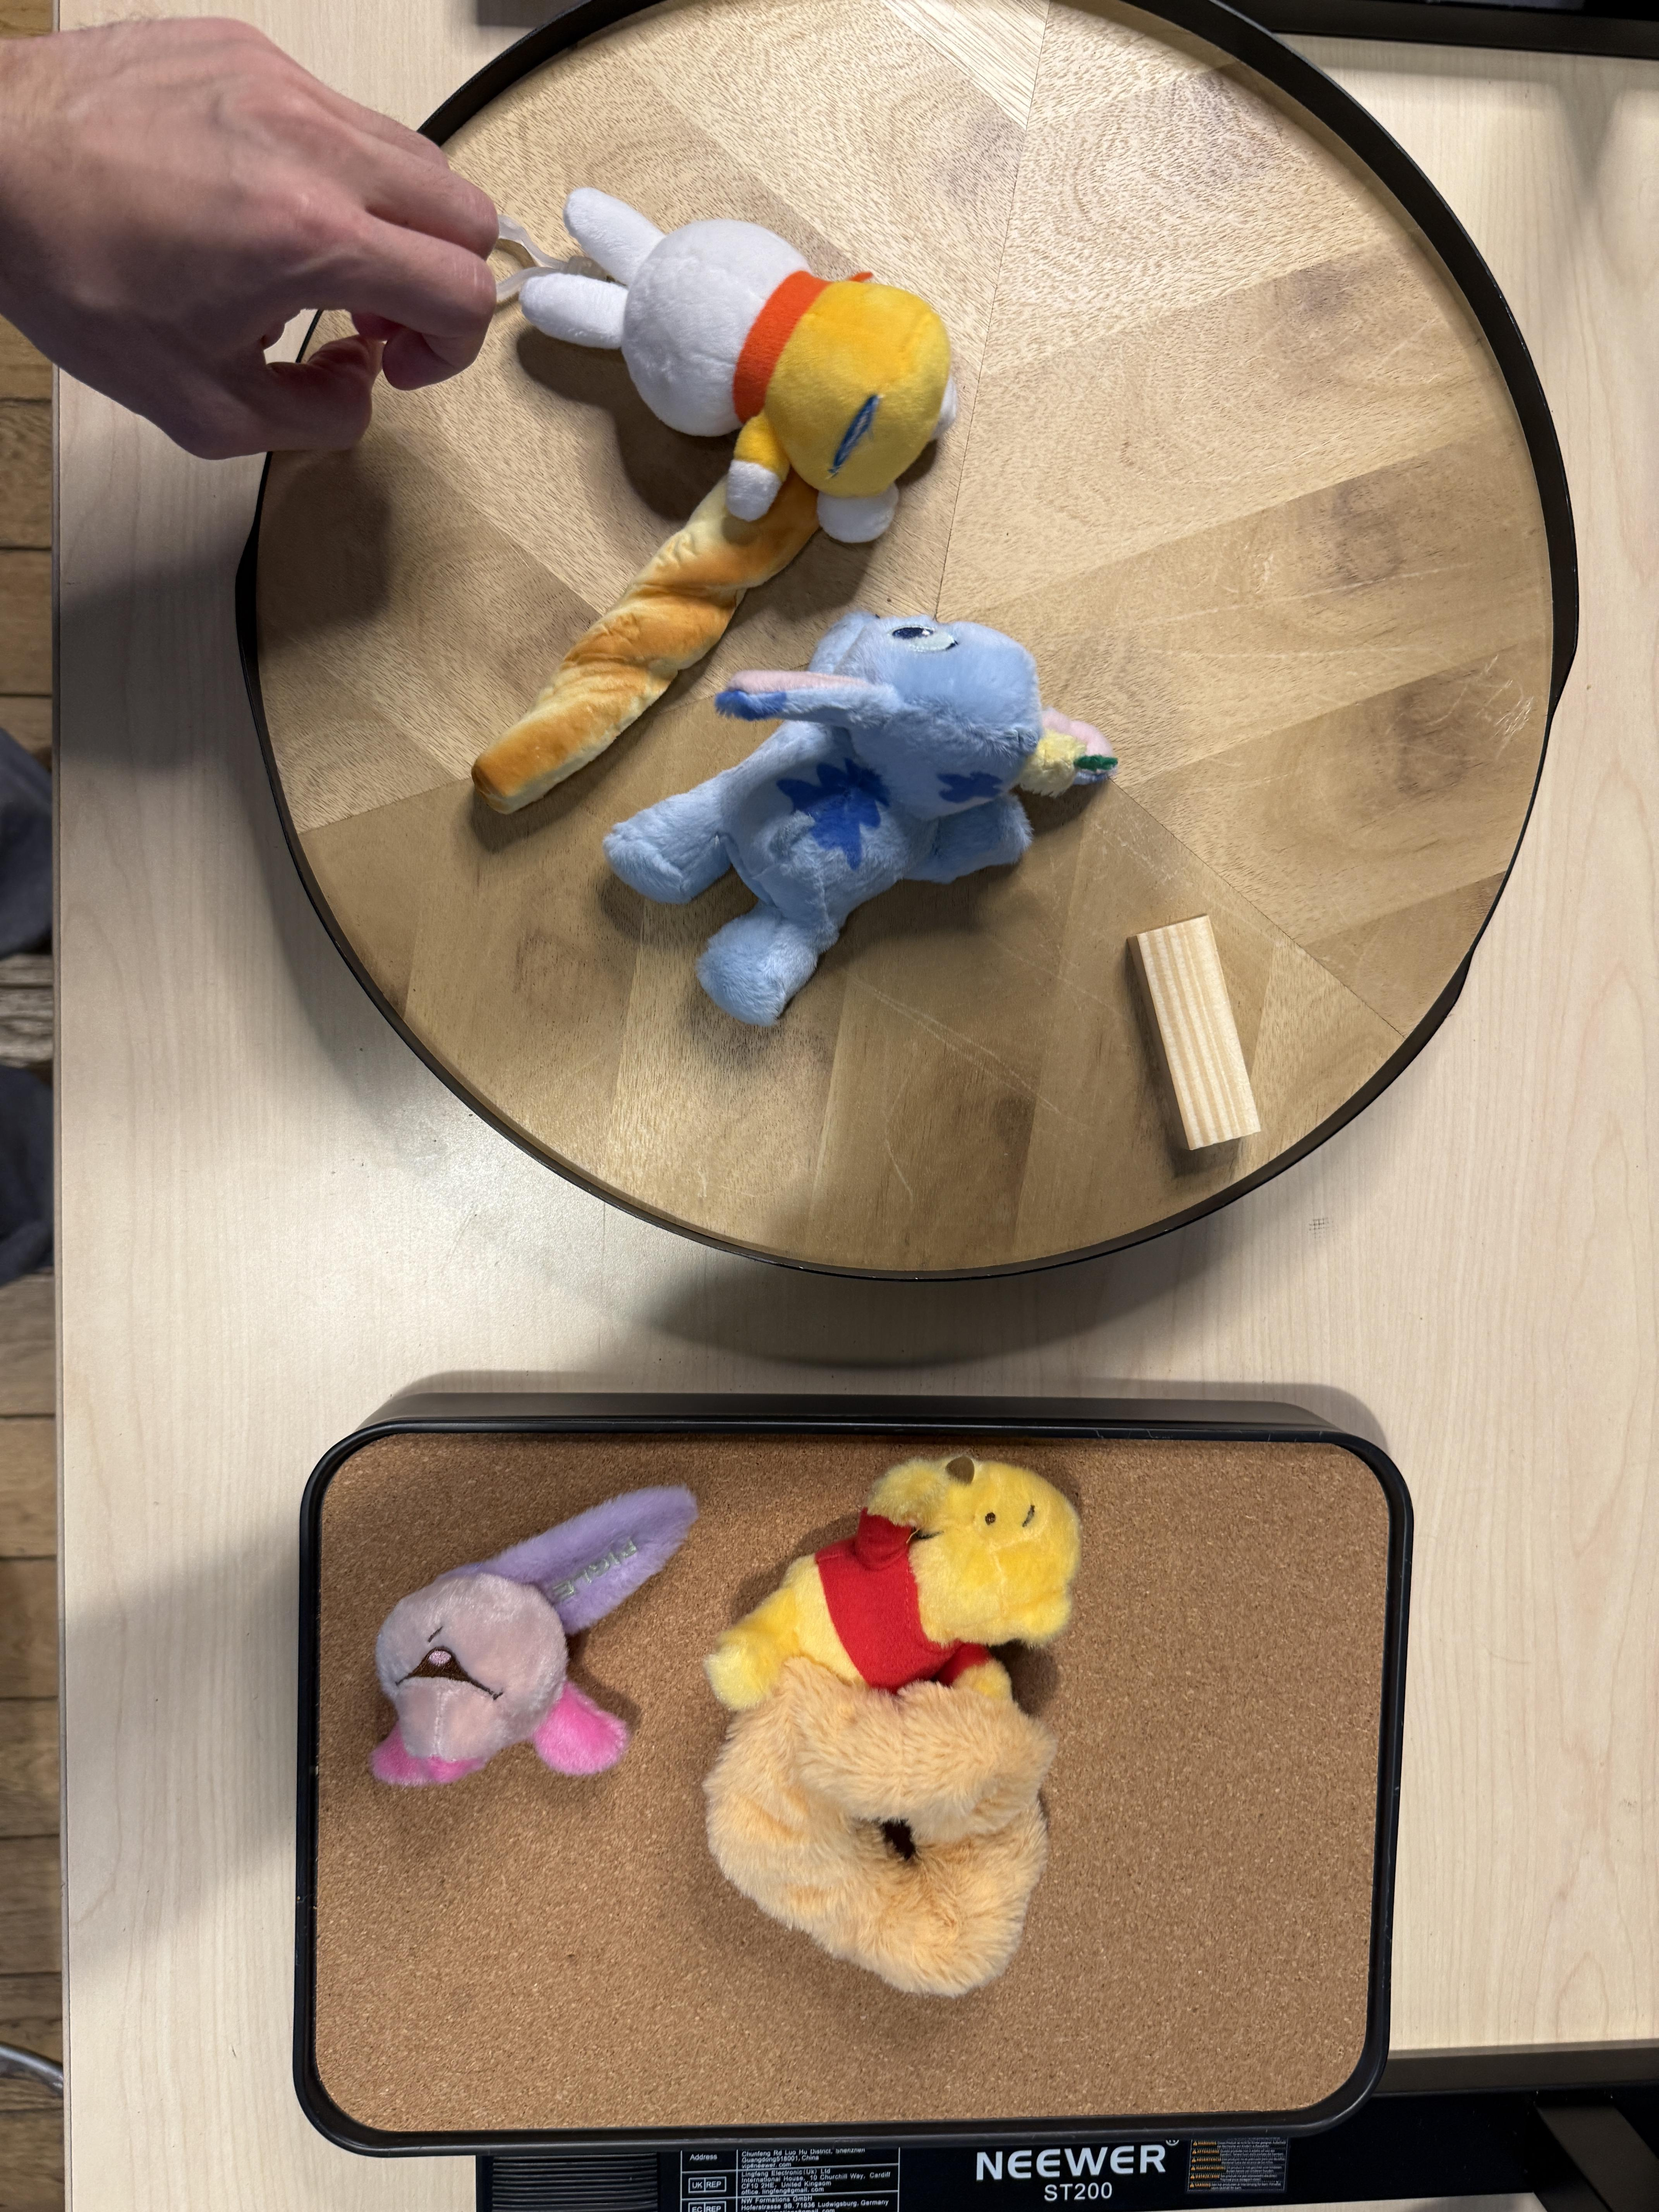block: (1131, 914, 1267, 1151)
bread: (500, 427, 823, 801)
doll: (599, 604, 1122, 1033), (709, 1449, 1086, 2003), (519, 178, 967, 552), (361, 1460, 680, 1792)
